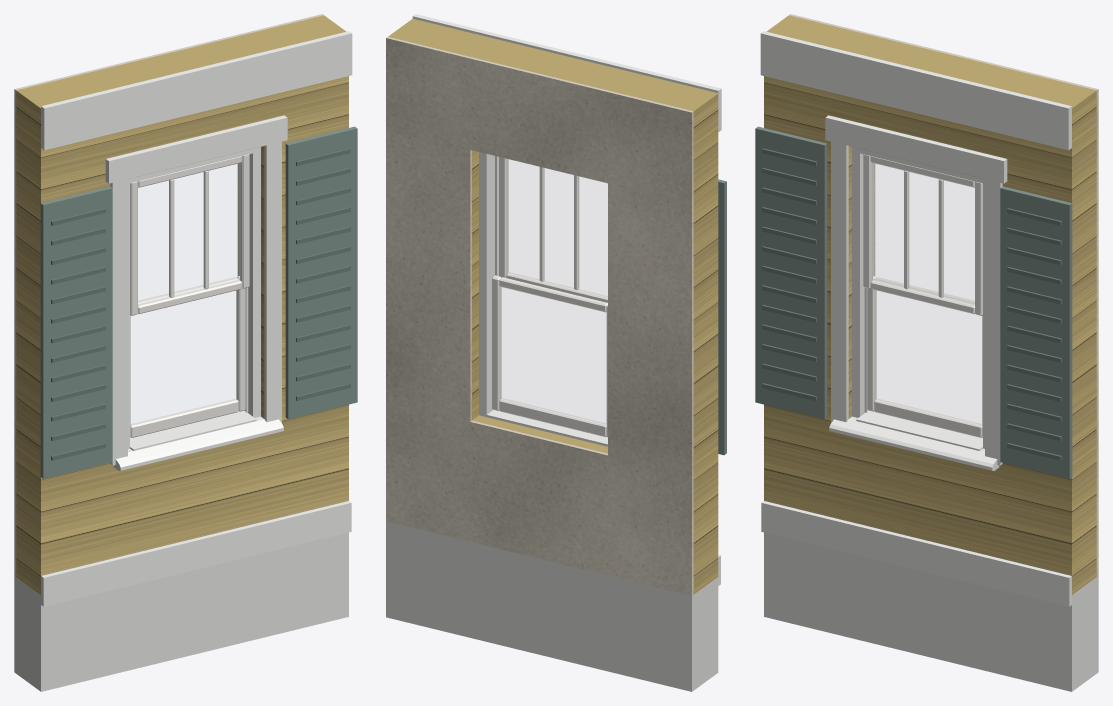
The model's file is wall_b_window.glb.
3 views of the same model, side by side, from view 1: azimuth 30°, elevation 25°; view 2: azimuth 150°, elevation 25°; view 3: azimuth 330°, elevation 25° (orthographic).
Visible parts, largest first — view 1: wall_b_window_siding_b, wall_b_window_trim, wall_b_window_shutter, wall_b_window_lattice, folha_glass, wall_b_window_glass, wall_b_window_shutter_dark, wall_b_window_sash, wall_b_window_frame, folha_sash, wall_b_window_plaster; view 2: wall_b_window_plaster, wall_b_window_lattice, wall_b_window_siding_b, folha_glass, wall_b_window_glass, folha_sash, wall_b_window_frame, wall_b_window_sash, wall_b_window_trim, wall_b_window_shutter; view 3: wall_b_window_siding_b, wall_b_window_trim, wall_b_window_shutter, wall_b_window_lattice, folha_glass, wall_b_window_glass, wall_b_window_shutter_dark, wall_b_window_sash, wall_b_window_frame, folha_sash, wall_b_window_plaster.
Part boxes in pixels (x1=…): wall_b_window_siding_b: x1=16, y1=15, x2=348, y2=594; wall_b_window_trim: x1=41, y1=31, x2=352, y2=606; wall_b_window_shutter: x1=40, y1=126, x2=357, y2=478; wall_b_window_lattice: x1=14, y1=532, x2=348, y2=691; folha_glass: x1=131, y1=291, x2=236, y2=424; wall_b_window_glass: x1=138, y1=163, x2=240, y2=304; wall_b_window_shutter_dark: x1=51, y1=148, x2=350, y2=460; wall_b_window_sash: x1=130, y1=154, x2=249, y2=315; wall_b_window_frame: x1=128, y1=147, x2=260, y2=448; folha_sash: x1=130, y1=276, x2=245, y2=437; wall_b_window_plaster: x1=14, y1=14, x2=323, y2=576; wall_b_window_plaster: x1=386, y1=37, x2=693, y2=595; wall_b_window_lattice: x1=386, y1=521, x2=718, y2=691; wall_b_window_siding_b: x1=388, y1=18, x2=718, y2=594; folha_glass: x1=501, y1=287, x2=605, y2=423; wall_b_window_glass: x1=508, y1=160, x2=607, y2=296; folha_sash: x1=492, y1=275, x2=607, y2=437; wall_b_window_frame: x1=479, y1=152, x2=498, y2=416; wall_b_window_sash: x1=499, y1=157, x2=607, y2=302; wall_b_window_trim: x1=412, y1=14, x2=721, y2=585; wall_b_window_shutter: x1=718, y1=179, x2=726, y2=455; wall_b_window_siding_b: x1=764, y1=15, x2=1096, y2=594; wall_b_window_trim: x1=760, y1=31, x2=1071, y2=606; wall_b_window_shutter: x1=755, y1=126, x2=1072, y2=478; wall_b_window_lattice: x1=764, y1=532, x2=1098, y2=691; folha_glass: x1=876, y1=291, x2=981, y2=424; wall_b_window_glass: x1=872, y1=163, x2=974, y2=304; wall_b_window_shutter_dark: x1=762, y1=148, x2=1061, y2=460; wall_b_window_sash: x1=863, y1=154, x2=982, y2=315; wall_b_window_frame: x1=852, y1=147, x2=984, y2=448; folha_sash: x1=867, y1=276, x2=982, y2=437; wall_b_window_plaster: x1=789, y1=14, x2=1098, y2=576.
Size of the model in its own units: 2.04 by 3.63 by 0.38.
9 materials, 2 textured.
